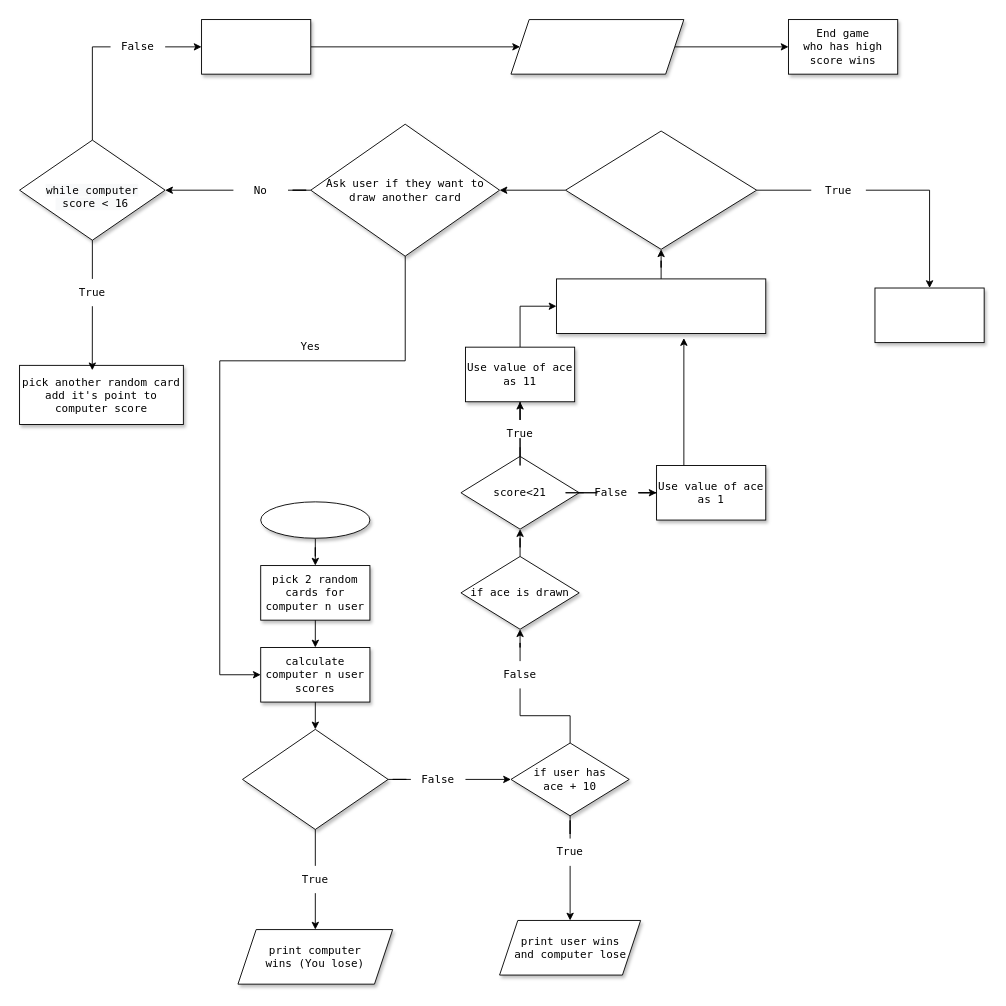
Image size: 1006x1006. Some labels were removed from this diagram. Each missing label, with the centre of its shape:
"Calculate User and computer score" goes at (256,48).
"Compute values for computer and user's score" goes at (661,307).
"End Game User lose" goes at (930,316).
"if computer has ace + 10 i.e score=21" goes at (316,780).
"if user score > 21 or computer score = 21" goes at (661,191).
"Print the winner" goes at (597,48).
"Start" goes at (315,521).
